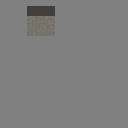supply_truck: (27, 6, 55, 36)
